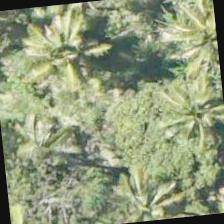Kelapa_Sawit: (0, 84, 99, 184), (18, 5, 117, 104), (149, 61, 223, 159), (97, 156, 194, 223), (163, 0, 222, 87)
